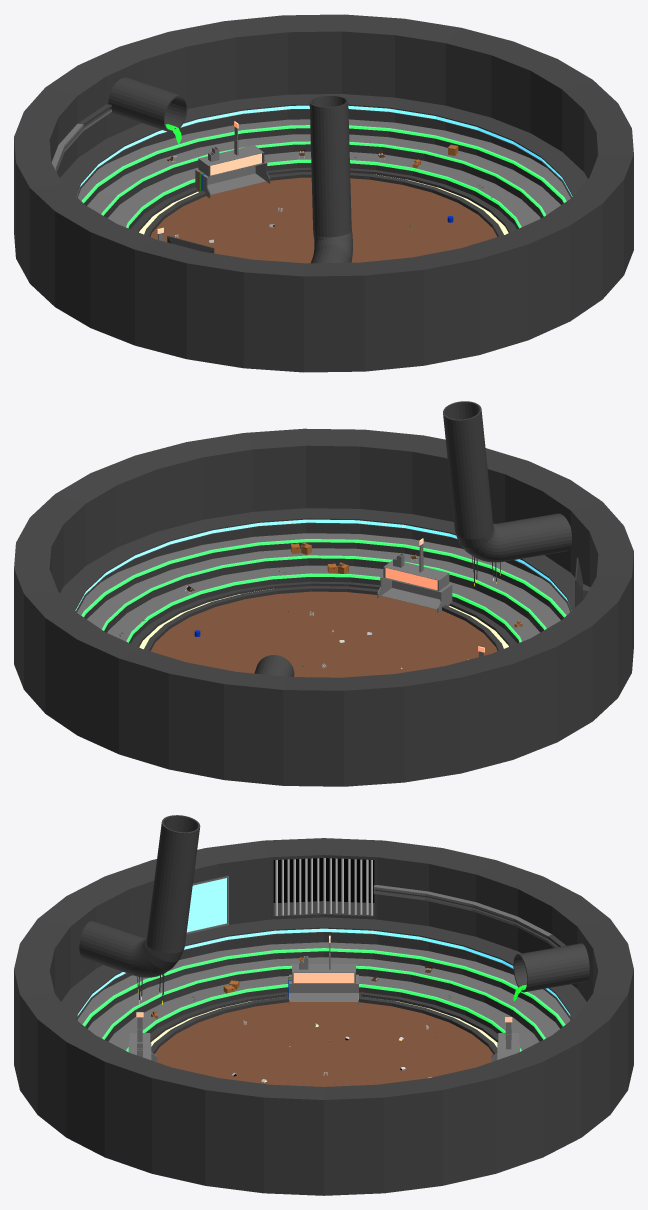
File: ARENA_MAP.fbx
3 views of the same model, one above another, from view 1: azimuth 30°, elevation 25°; view 2: azimuth 150°, elevation 25°; view 3: azimuth 270°, elevation 25° (orthographic).
Visible parts, largest first — view 1: ARENA, Spawner.001; view 2: ARENA, Spawner.002; view 3: ARENA, Spawner, Spawner.002, Spawner.001.
Boxes of the visible parts, x1,y1,x2,y2 form: ARENA: (14,14,633,372); Spawner.001: (195,121,270,198); ARENA: (14,401,633,786); Spawner.002: (377,538,452,612); ARENA: (14,815,633,1195); Spawner: (288,935,358,1004); Spawner.002: (128,1012,157,1061); Spawner.001: (491,1017,519,1061).
Bounding box in the file's own units: 12923 × 5145 × 12923.
